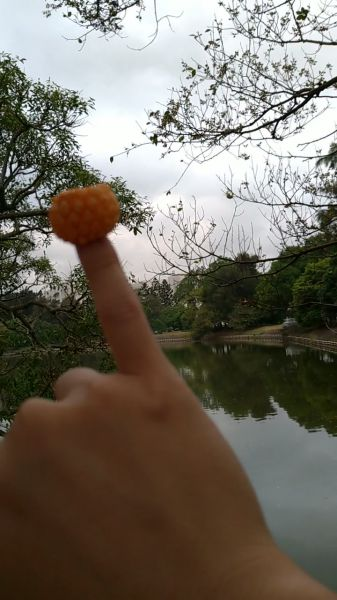eggs: (50, 184, 120, 243)
